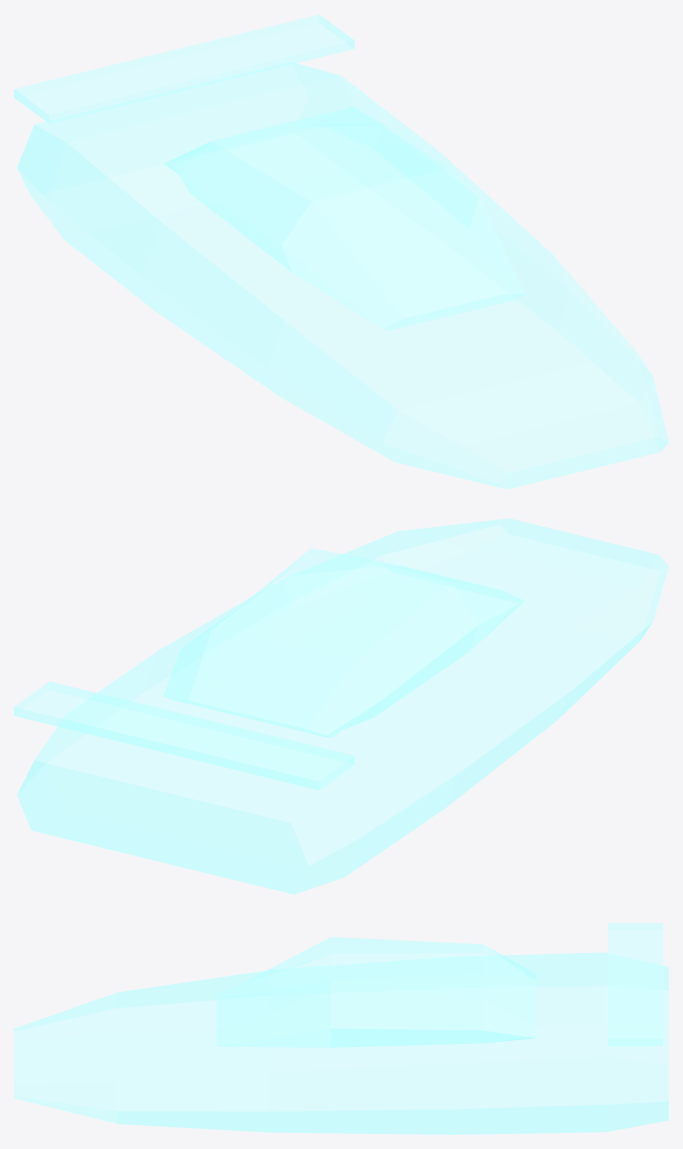
The model's file is ghost.glb.
3 renders of one model, top to bottom at view 1: azimuth 30°, elevation 25°; view 2: azimuth 150°, elevation 25°; view 3: azimuth 270°, elevation 25°, orthographic. The views are drawn at different scales.
Parts seen in each view (by area): view 1: ghost; view 2: ghost; view 3: ghost.
Part boxes in pixels (x1=…): ghost: x1=14, y1=14, x2=668, y2=489; ghost: x1=14, y1=518, x2=668, y2=894; ghost: x1=14, y1=923, x2=668, y2=1134.
Bounding box in the file's own units: 1.88 × 0.85 × 4.3.
